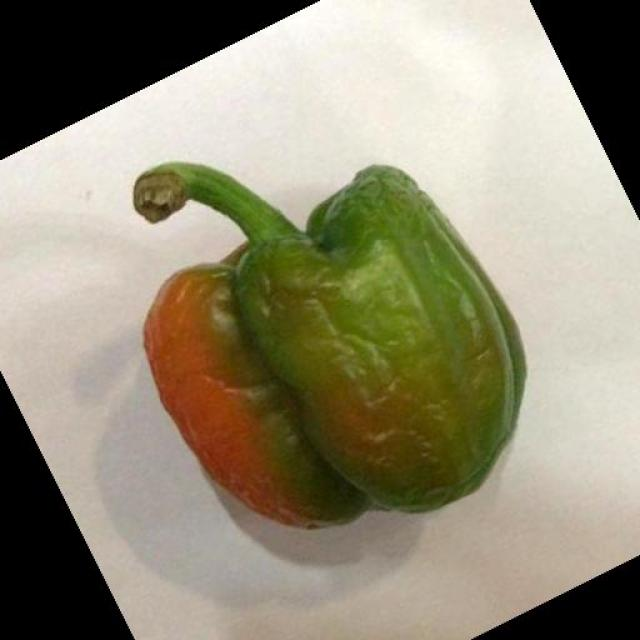Stale_Capsicum: (132, 88, 528, 548)
